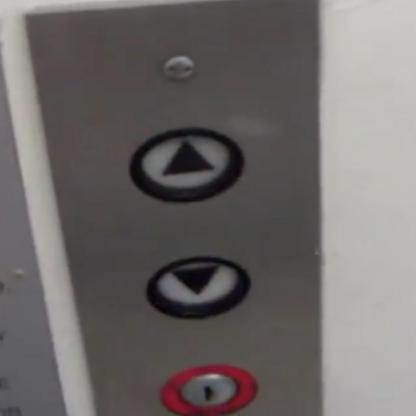down: (144, 252, 252, 322)
keyhole: (154, 360, 263, 416)
up: (126, 123, 248, 205)
